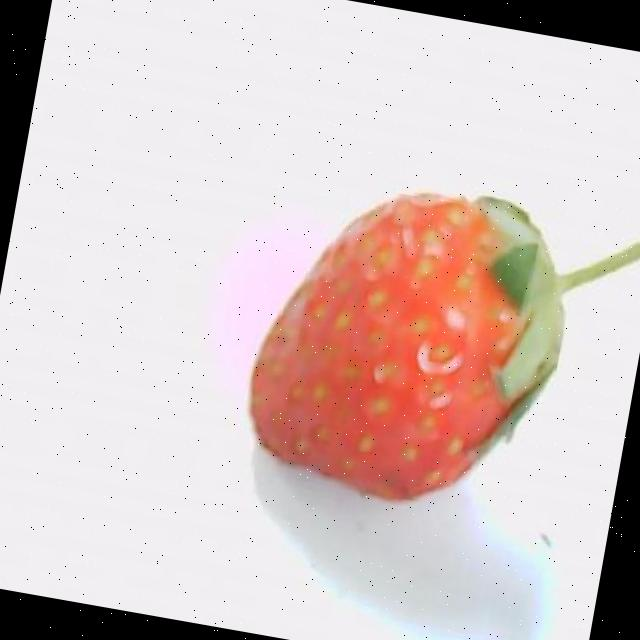strawberry: (250, 195, 640, 499)
